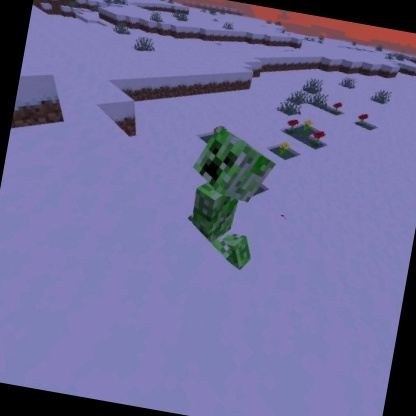creeper: (173, 121, 283, 273)
